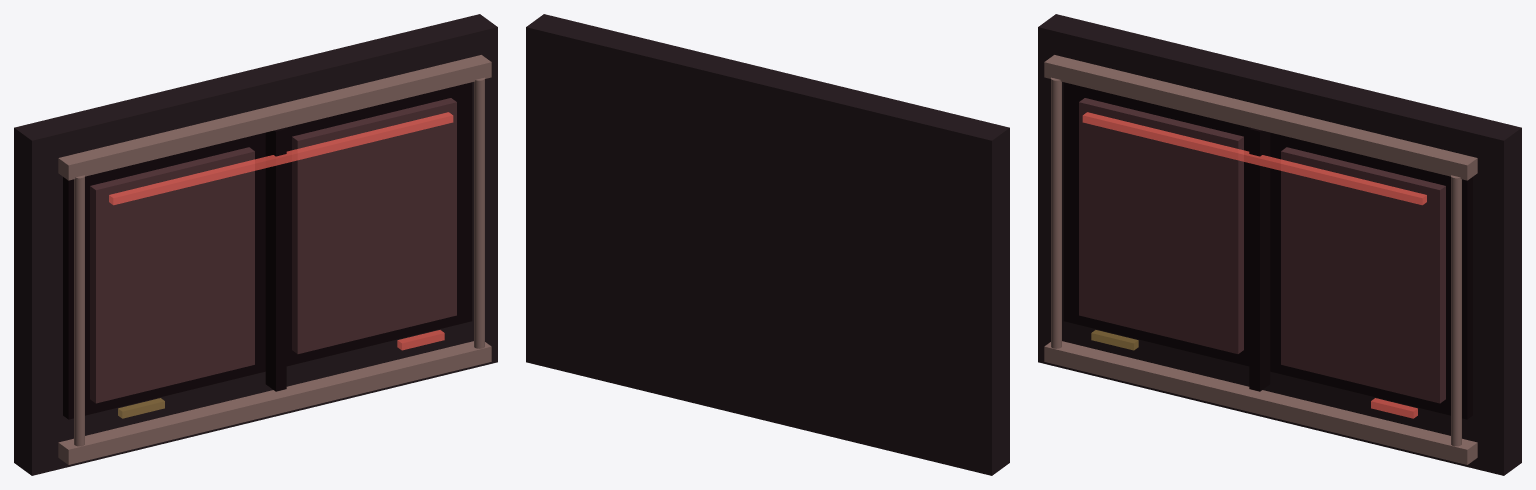
The model's file is hp_room_wall_panel_core.glb.
3 views of the same model, side by side, from view 1: azimuth 30°, elevation 25°; view 2: azimuth 150°, elevation 25°; view 3: azimuth 330°, elevation 25° (orthographic).
Parts seen in each view (by area): view 1: core_wall_structural_back, core_wall_status_strip; view 2: core_wall_structural_back; view 3: core_wall_structural_back, core_wall_status_strip.
Part boxes in pixels (box(x1,y1,x2,y2)): core_wall_structural_back: box(14, 14, 497, 475); core_wall_status_strip: box(109, 112, 453, 418); core_wall_structural_back: box(526, 14, 1009, 475); core_wall_structural_back: box(1038, 14, 1521, 475); core_wall_status_strip: box(1082, 112, 1426, 418).
Bounding box in the file's own units: 2.4 × 1.65 × 0.326.
Materials: 2 (2 with a texture image).
